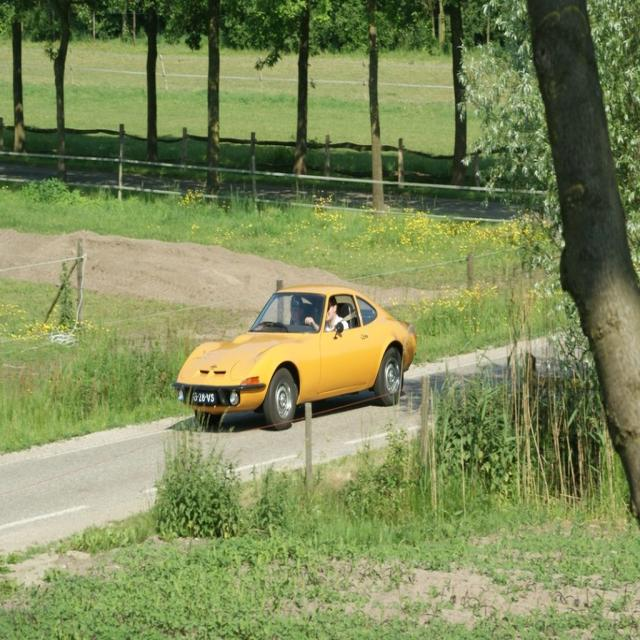car: (173, 271, 412, 434)
